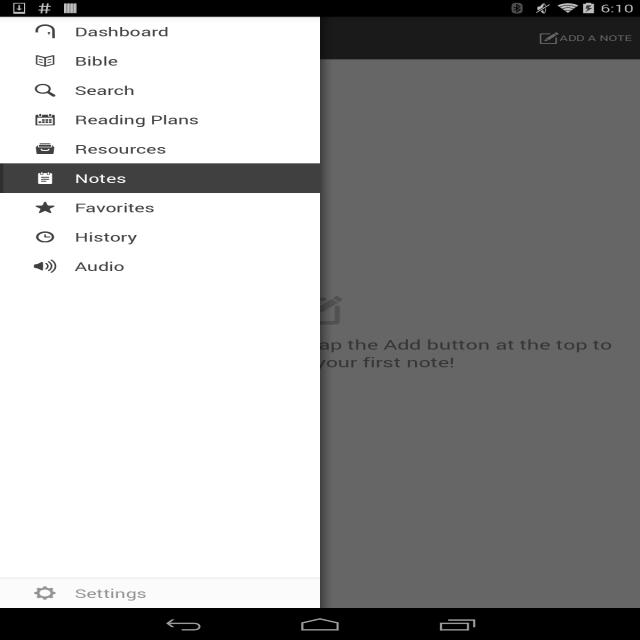ImageButton: (0, 19, 60, 57)
ImageView: (32, 24, 58, 38), (32, 259, 58, 273), (32, 586, 58, 600), (32, 54, 58, 66), (32, 84, 58, 96), (32, 172, 58, 184), (32, 114, 58, 125), (32, 143, 58, 154), (32, 202, 58, 213), (32, 231, 58, 242)
TextView: (21, 296, 619, 371), (75, 46, 320, 76), (75, 75, 320, 105), (75, 134, 320, 164), (75, 163, 320, 193), (75, 222, 320, 252), (75, 251, 320, 281), (75, 578, 320, 608), (75, 17, 320, 46), (75, 105, 320, 134), (75, 193, 320, 222), (523, 22, 640, 54), (64, 29, 122, 47)
